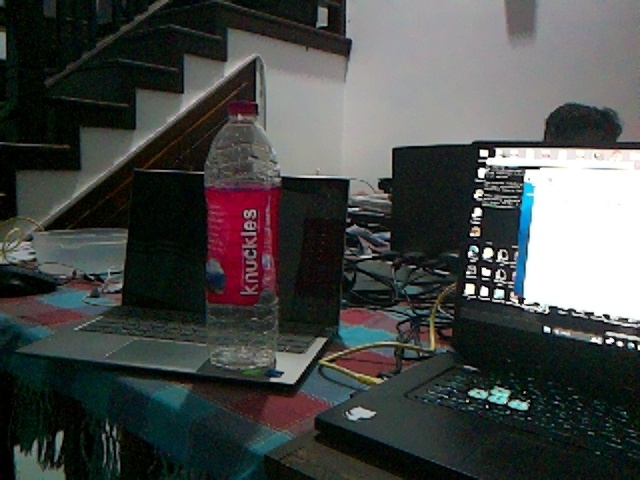bottle: (201, 101, 283, 374)
